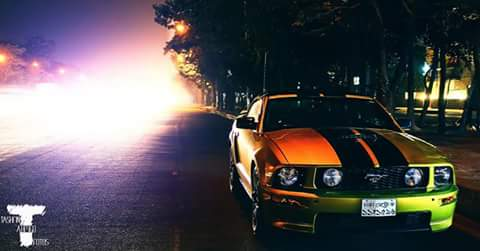registration_plate: (360, 198, 396, 217)
